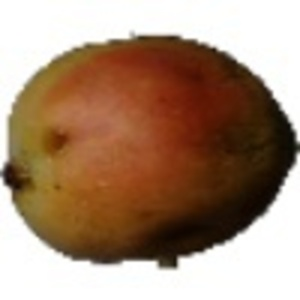mamão: (7, 29, 292, 259)
